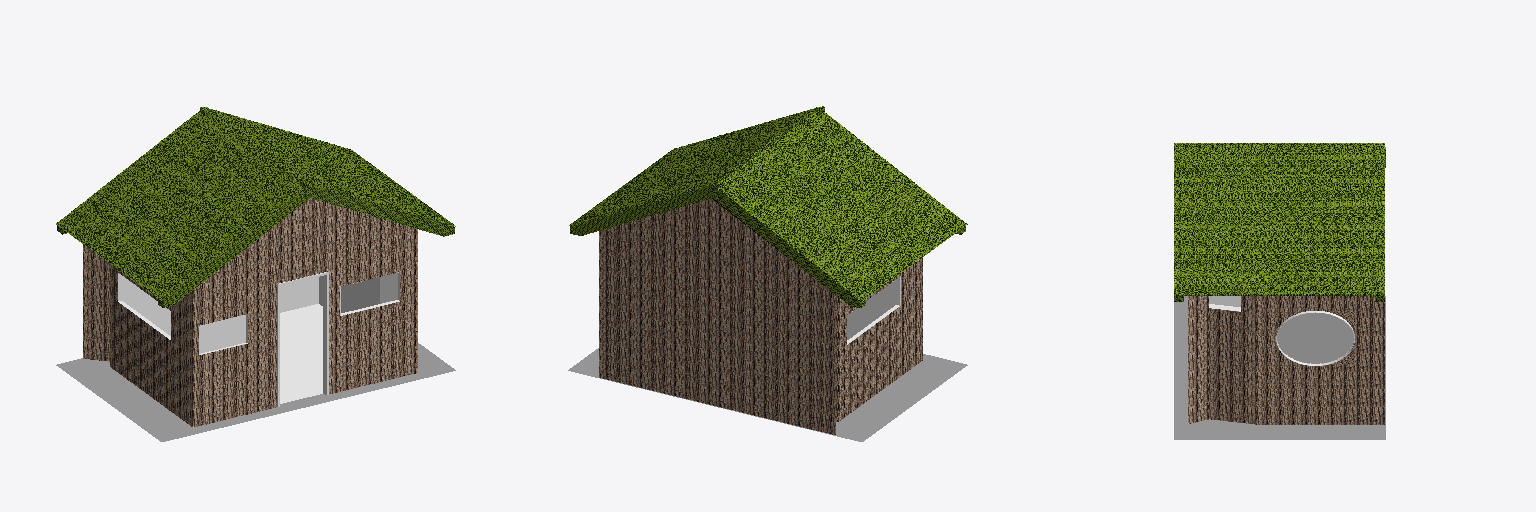
3 renders of one model, left to right at view 1: azimuth 30°, elevation 25°; view 2: azimuth 150°, elevation 25°; view 3: azimuth 270°, elevation 25°, orthographic.
Visible parts, largest first — view 1: polySurface1; view 2: polySurface1; view 3: polySurface1.
Boxes of the visible parts, x1,y1,x2,y2 form: polySurface1: [56, 107, 455, 441]; polySurface1: [568, 106, 967, 441]; polySurface1: [1174, 143, 1385, 439].
Bounding box in the file's own units: 72.78 × 52.7 × 45.45.
Materials: 7 (2 with a texture image).